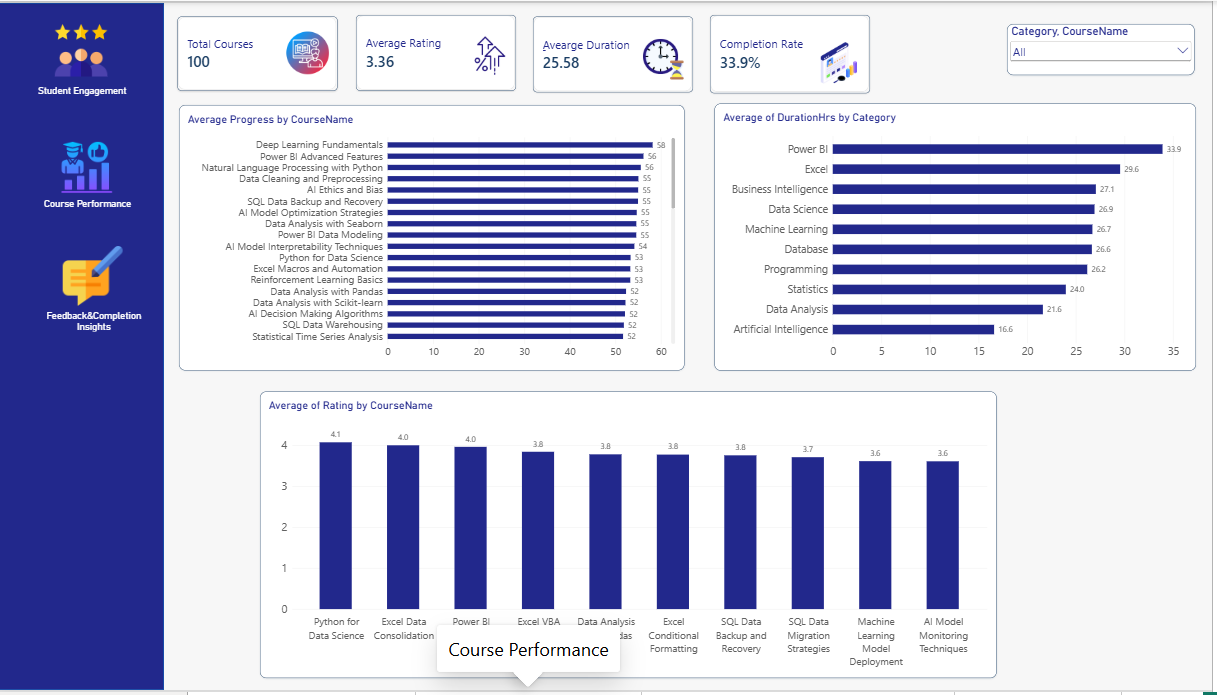

The page's visual inventory and layout, read from the dashboard file:
{"tool":"powerbi","page":{"name":"Course Performance","canvas":[2300,1300],"ordinal":1},"visuals":[{"type":"clusteredBarChart","fields":{"Category":["DimCourses.CourseName"],"Y":["Measures (2).Average Progress"]},"box":[346.1,192.9,956.1,502.2],"z":0},{"type":"clusteredBarChart","fields":{"Y":["Avg(DimCourses.DurationHrs)"],"Category":["DimCourses.Category Hierarchy.Category","DimCourses.Category Hierarchy.CourseName"]},"box":[1359,190.1,910.7,505],"z":1000},{"type":"clusteredColumnChart","fields":{"Category":["DimCourses.CourseName"],"Y":["Avg(Dimprogress&feedback.Rating)"]},"box":[499.3,734.8,1393.1,541.9],"z":2000},{"type":"cardVisual","fields":{"Data":["Measures (2).Total Courses"]},"box":[344.6,25.8,302.4,140.7],"z":3000},{"type":"cardVisual","fields":{"Data":["Measures (2).Average Rating"]},"box":[679.9,23.4,302.4,143],"z":4000},{"type":"cardVisual","fields":{"Data":["Measures (2).ِAvearge Duration"]},"box":[1015.2,25.8,302.4,143],"z":5000},{"type":"cardVisual","fields":{"Data":["Measures (2).Completion Rate"]},"box":[1350.4,23.4,302.4,147.7],"z":6000},{"type":"slicer","fields":{"Values":["DimCourses.Category Hierarchy.Category","DimCourses.Category Hierarchy.CourseName"]},"box":[1912.3,39.7,354.7,96.5],"z":7000},{"type":"actionButton","box":[51.6,39.9,100,40],"z":8000},{"type":"shape","box":[0,0,317.8,1299.4],"z":9000},{"type":"actionButton","box":[68,25.8,195.9,188.6],"z":10000},{"type":"image","box":[99.1,38.7,123.3,99.1],"z":11000},{"type":"textbox","title":"Student Engagement","box":[79.8,154.8,203.1,70.1],"z":12000},{"type":"image","box":[91.9,261.2,162,99.1],"z":13000},{"type":"textbox","title":"Course Performance","box":[89.5,367.6,195.9,70.1],"z":14000},{"type":"actionButton","box":[68,241.5,195.9,176.5],"z":15000},{"type":"image","box":[125.8,459.5,116.1,113.7],"z":16000},{"type":"textbox","title":"Feedback&Completion Insights","box":[89.5,582.8,188.6,75],"z":17000},{"type":"actionButton","box":[82.1,450.1,205.6,200.7],"z":18000},{"type":"image","box":[1552,70.3,84.6,84.6],"z":22000},{"type":"image","box":[525.2,51.6,128.9,86.7],"z":23000},{"type":"image","box":[881.5,61,100.8,82.1],"z":24000},{"type":"image","box":[1205.1,65.6,112.5,82.1],"z":25000}]}

Visuals, with their boxes on the page's 2300x1300 design canvas (x1, y1, x2, y2). These are canvas units, not pixel positions in the 1217x695 screenshot, which may show the page scaled, cropped or inside an application window:
clusteredBarChart - DimCourses.CourseName x Measures (2).Average Progress: pyautogui.locateOnScreen(346, 193, 1302, 695)
clusteredBarChart - Avg(DimCourses.DurationHrs) x DimCourses.Category Hierarchy.Category: pyautogui.locateOnScreen(1359, 190, 2270, 695)
clusteredColumnChart - DimCourses.CourseName x Avg(Dimprogress&feedback.Rating): pyautogui.locateOnScreen(499, 735, 1892, 1277)
cardVisual - Measures (2).Total Courses: pyautogui.locateOnScreen(345, 26, 647, 166)
cardVisual - Measures (2).Average Rating: pyautogui.locateOnScreen(680, 23, 982, 166)
cardVisual - Measures (2).ِAvearge Duration: pyautogui.locateOnScreen(1015, 26, 1318, 169)
cardVisual - Measures (2).Completion Rate: pyautogui.locateOnScreen(1350, 23, 1653, 171)
slicer - DimCourses.Category Hierarchy.Category x DimCourses.Category Hierarchy.CourseName: pyautogui.locateOnScreen(1912, 40, 2267, 136)
actionButton: pyautogui.locateOnScreen(52, 40, 152, 80)
shape: pyautogui.locateOnScreen(0, 0, 318, 1299)
actionButton: pyautogui.locateOnScreen(68, 26, 264, 214)
image: pyautogui.locateOnScreen(99, 39, 222, 138)
"Student Engagement" textbox: pyautogui.locateOnScreen(80, 155, 283, 225)
image: pyautogui.locateOnScreen(92, 261, 254, 360)
"Course Performance" textbox: pyautogui.locateOnScreen(90, 368, 285, 438)
actionButton: pyautogui.locateOnScreen(68, 242, 264, 418)
image: pyautogui.locateOnScreen(126, 460, 242, 573)
"Feedback&Completion Insights" textbox: pyautogui.locateOnScreen(90, 583, 278, 658)
actionButton: pyautogui.locateOnScreen(82, 450, 288, 651)
image: pyautogui.locateOnScreen(1552, 70, 1637, 155)
image: pyautogui.locateOnScreen(525, 52, 654, 138)
image: pyautogui.locateOnScreen(882, 61, 982, 143)
image: pyautogui.locateOnScreen(1205, 66, 1318, 148)
